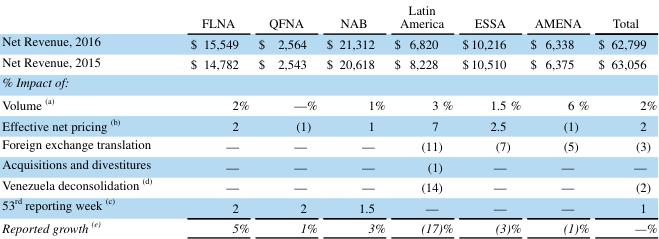table: (1, 0, 656, 235)
table column: (1, 0, 170, 235), (170, 0, 253, 235), (253, 0, 321, 235), (321, 0, 389, 235), (389, 0, 457, 235), (457, 0, 525, 235), (525, 0, 592, 235), (592, 0, 656, 235)
table column header: (1, 0, 656, 31)
table projected row header: (1, 72, 656, 92)
table row: (1, 0, 656, 31), (1, 194, 656, 216), (1, 51, 656, 72), (1, 92, 656, 113), (1, 133, 656, 154), (1, 31, 656, 51), (1, 72, 656, 92), (1, 113, 656, 133), (1, 154, 656, 174), (1, 174, 656, 194), (1, 216, 656, 235)
